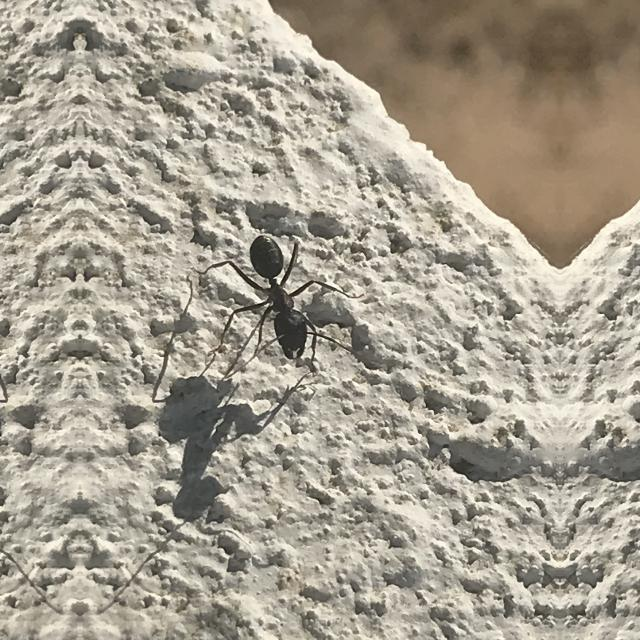Cataglyphis: (221, 205, 343, 389)
